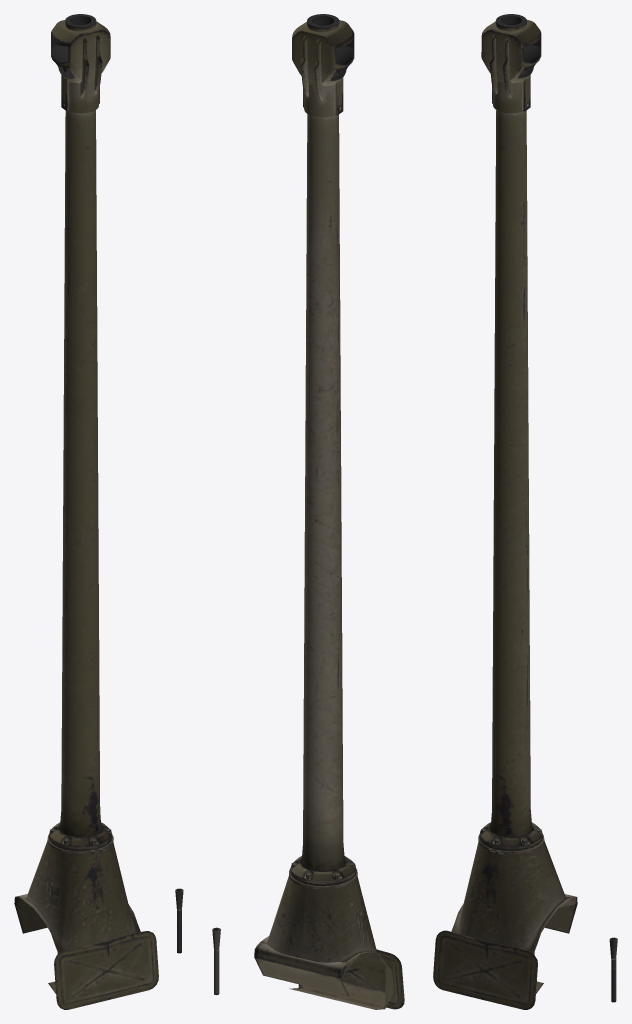
The model's file is Gun_03.glb.
The picture shows the model from 3 angles, left to right: view 1: azimuth 30°, elevation 25°; view 2: azimuth 150°, elevation 25°; view 3: azimuth 330°, elevation 25°; orthographic projection. The views are drawn at different scales.
Visible parts, largest first — view 1: set_0_group_0; view 2: set_0_group_0; view 3: set_0_group_0.
Part boxes in pixels (x1,y1,x2,y2): set_0_group_0: (14, 14, 183, 1009); set_0_group_0: (212, 14, 404, 1009); set_0_group_0: (433, 14, 617, 1009).
Bounding box in the file's own units: 0.9326 × 5.51 × 0.5508.
1 material, 1 textured.
